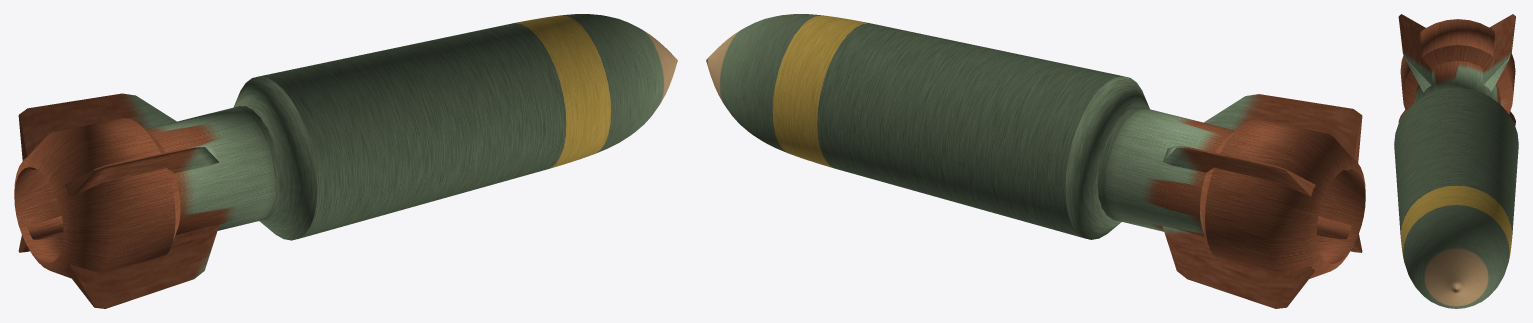
File: ConcTex.obj
The picture shows the model from 3 angles, left to right: view 1: azimuth 30°, elevation 25°; view 2: azimuth 150°, elevation 25°; view 3: azimuth 270°, elevation 25°; orthographic projection. The views are drawn at different scales.
Visible parts, largest first — view 1: Cylinder01; view 2: Cylinder01; view 3: Cylinder01.
Part boxes in pixels (left/top/right/bottom): Cylinder01: left=14, top=14, right=677, bottom=308; Cylinder01: left=706, top=14, right=1365, bottom=308; Cylinder01: left=1394, top=14, right=1518, bottom=308.
Size of the model in its own units: 1 by 0.2284 by 0.2284.
1 material, 1 textured.
